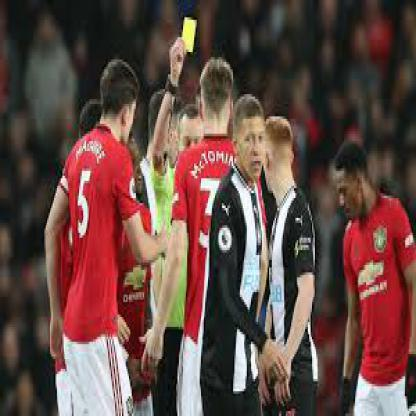foul: (152, 4, 202, 118)
